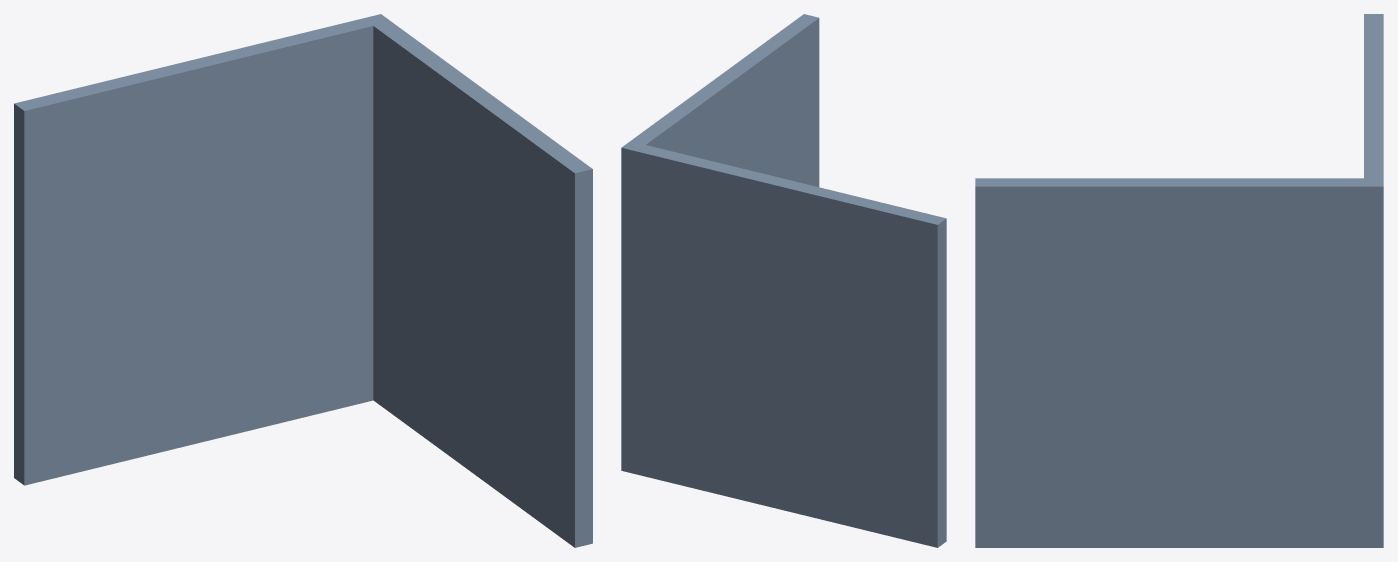
Rendered from Wal_1_Corner_A.fbx.
The picture shows the model from 3 angles, left to right: view 1: azimuth 30°, elevation 25°; view 2: azimuth 150°, elevation 25°; view 3: azimuth 270°, elevation 25°; orthographic projection. The views are drawn at different scales.
Parts seen in each view (by area): view 1: polySurface4; view 2: polySurface4; view 3: polySurface4.
Boxes of the visible parts, x1,y1,x2,y2 form: polySurface4: [14, 14, 592, 547]; polySurface4: [621, 14, 946, 547]; polySurface4: [975, 14, 1383, 547].
Bounding box in the file's own units: 4.1 × 4 × 4.1.
1 material, 1 textured.
